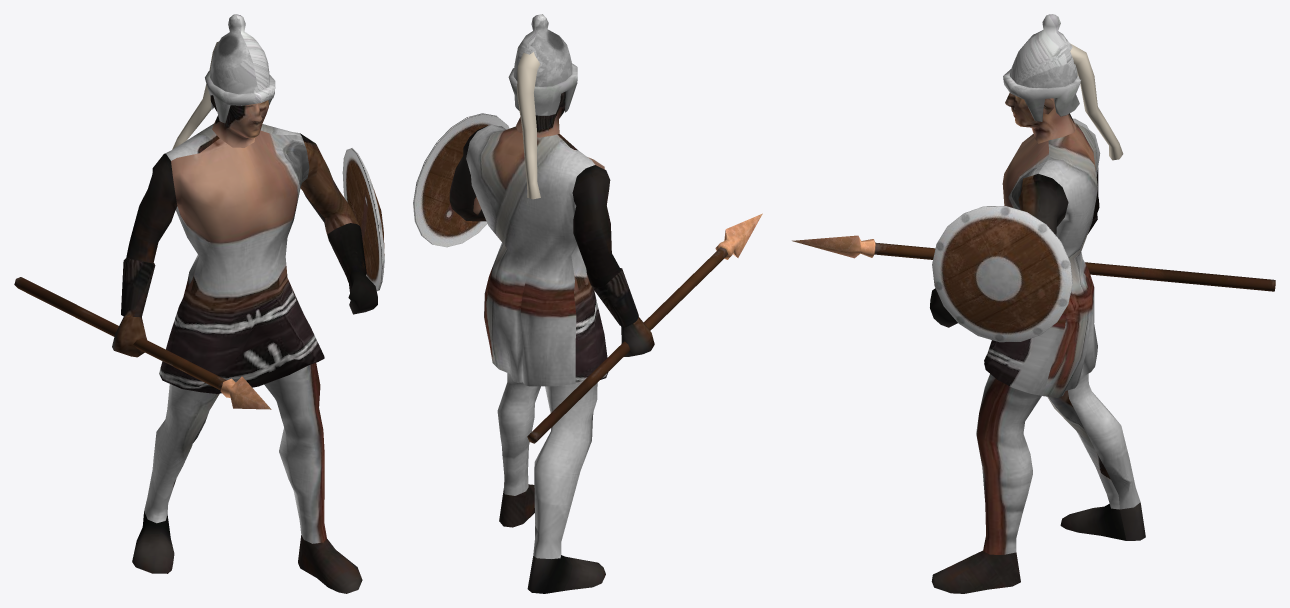
The model's file is 8-spearman.glb.
3 renders of one model, left to right at view 1: azimuth 30°, elevation 25°; view 2: azimuth 150°, elevation 25°; view 3: azimuth 270°, elevation 25°, orthographic. The views are drawn at different scales.
Bounding box in the file's own units: 1 × 2.19 × 1.77.
Materials: 5 (4 with a texture image).
